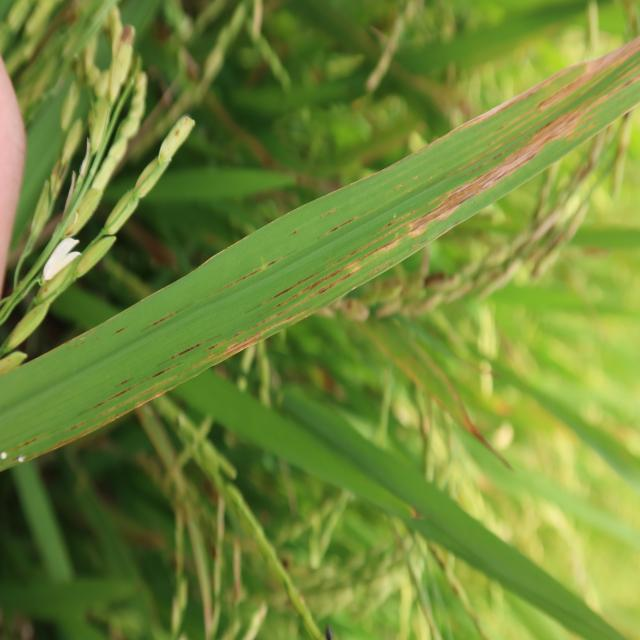Dom soc vi khuan: (3, 33, 640, 472)
